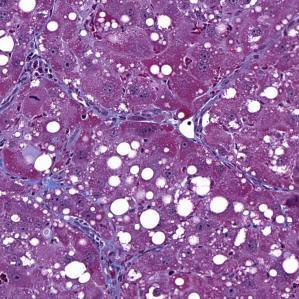fibrosis: (15, 50, 61, 86)
